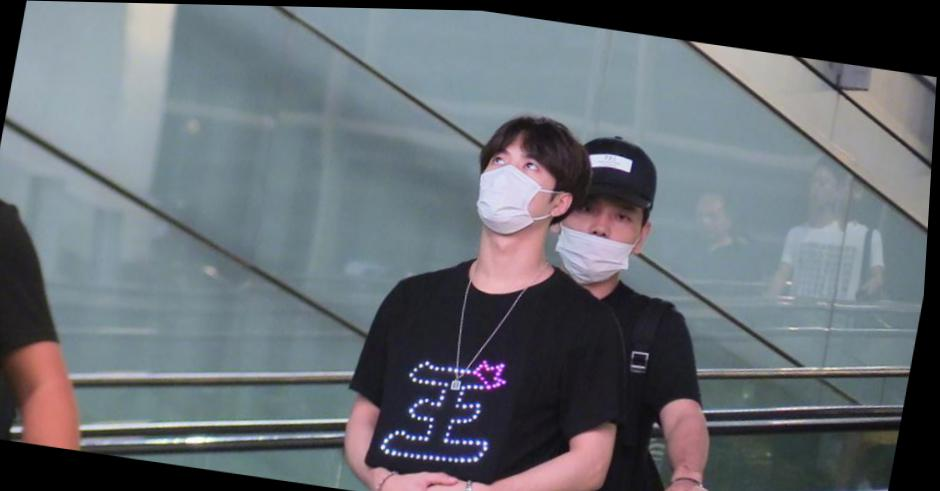OK: (470, 138, 574, 239)
WRONG: (555, 191, 650, 283)
